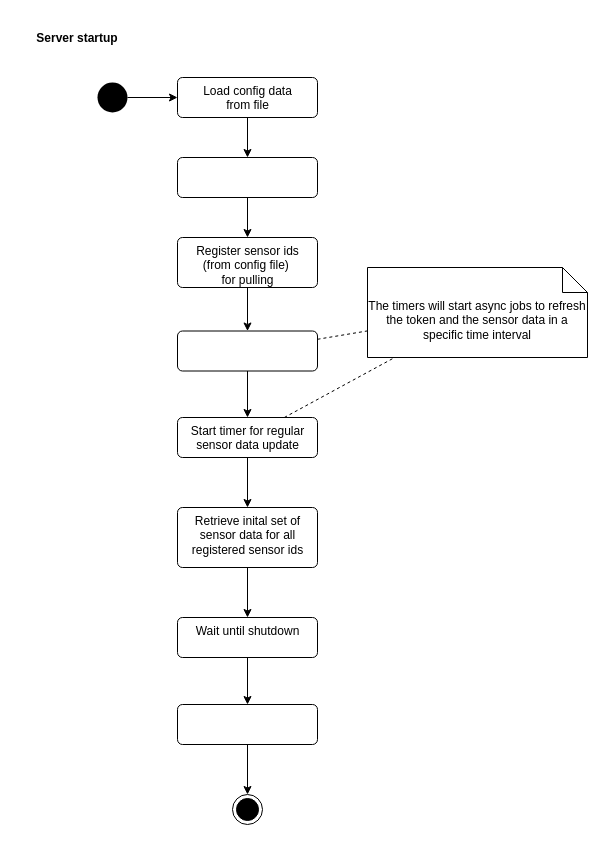
The diagram is 605 pixels wide and 842 high, and some of its shapes have lost their labels. Here are the shapes that lost their labels. From the top down, the centre of each, then its label:
the point at 247,177: Get oauth token from API
the point at 247,350: Start timer for regular token refresh
the point at 247,724: Delete timers for regular jobs
